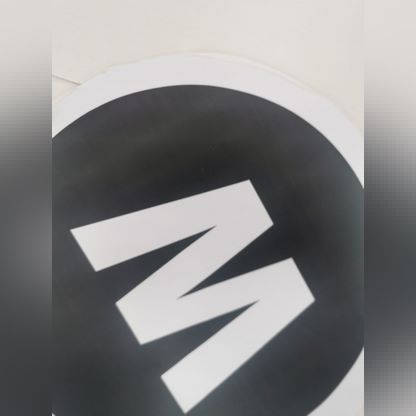W: (49, 98, 370, 408)
